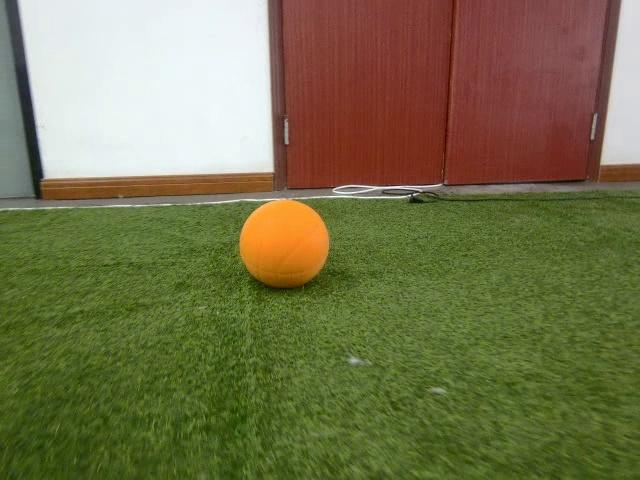orange_ball: (236, 200, 332, 288)
